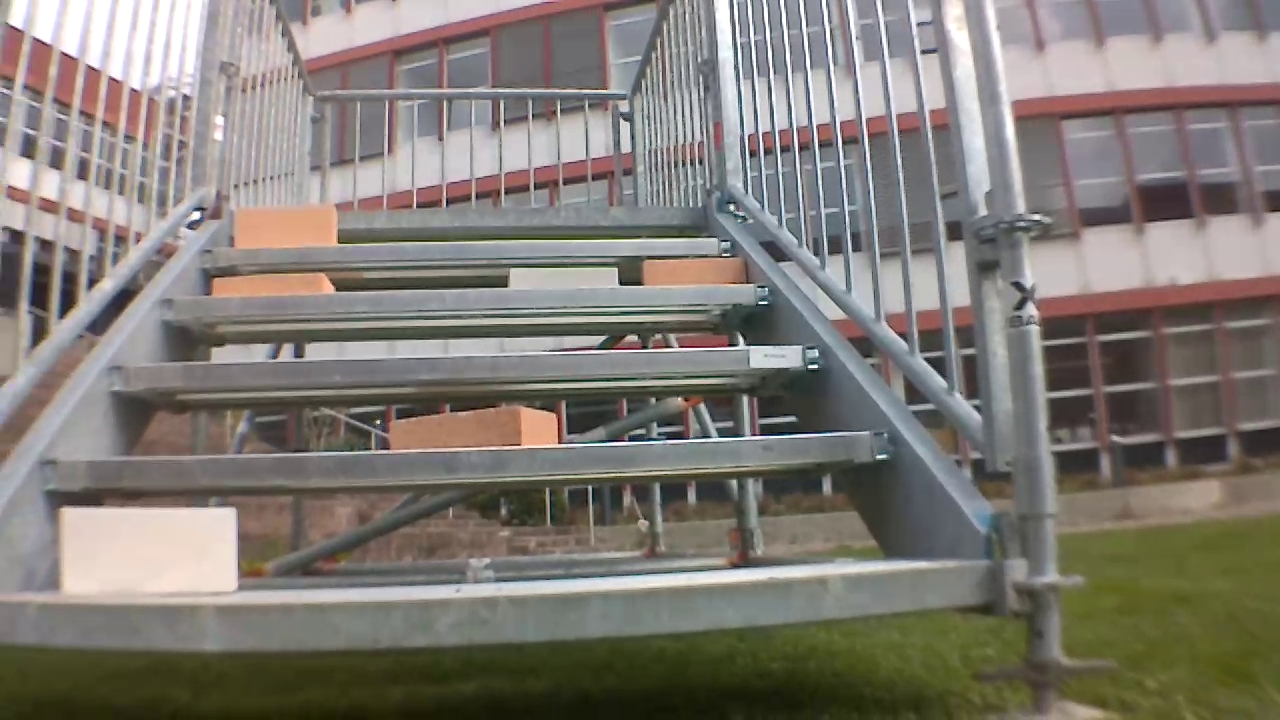brick: (59, 506, 237, 594), (388, 405, 558, 447), (235, 205, 337, 246), (212, 272, 334, 295), (643, 258, 745, 285), (509, 268, 616, 287)
edge: (1, 562, 991, 654), (44, 433, 892, 484), (107, 346, 825, 386), (162, 284, 773, 316), (202, 240, 730, 261), (223, 207, 708, 225)
stairs: (5, 4, 1074, 711)
steps: (3, 203, 999, 664)
